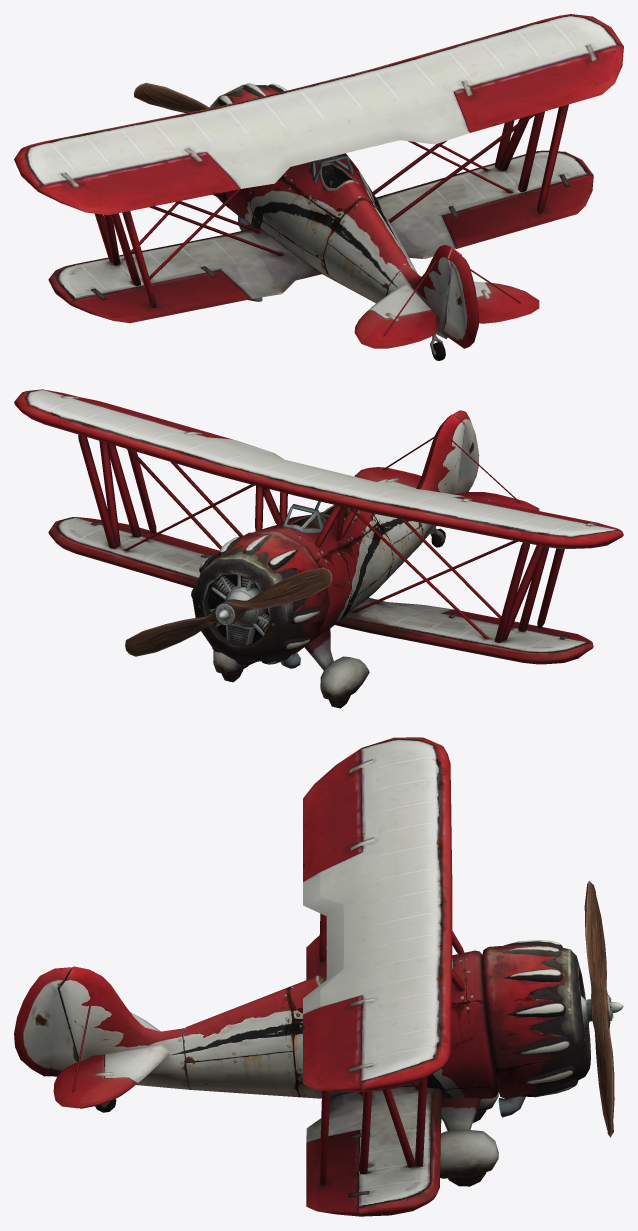
File: dae_rustairborn.glb
3 views of the same model, one above another, from view 1: azimuth 30°, elevation 25°; view 2: azimuth 150°, elevation 25°; view 3: azimuth 270°, elevation 25° (orthographic). The views are drawn at different scales.
Parts seen in each view (by area): view 1: Wing_Top002, Wing_Top004, Propeller; view 2: Wing_Top002, Wing_Top004, Propeller; view 3: Wing_Top002, Propeller, Wing_Top004.
Boxes of the visible parts, x1,y1,x2,y2 form: Wing_Top002: (14,14,623,360); Wing_Top004: (94,104,568,336); Propeller: (134,83,208,112); Wing_Top002: (14,389,623,708); Wing_Top004: (78,434,564,642); Propeller: (125,567,332,656); Wing_Top002: (14,737,590,1216); Propeller: (584,881,623,1137); Wing_Top004: (72,913,465,1184).
Bounding box in the file's own units: 8.03 × 2.76 × 6.04.
Materials: 1 (1 with a texture image).
